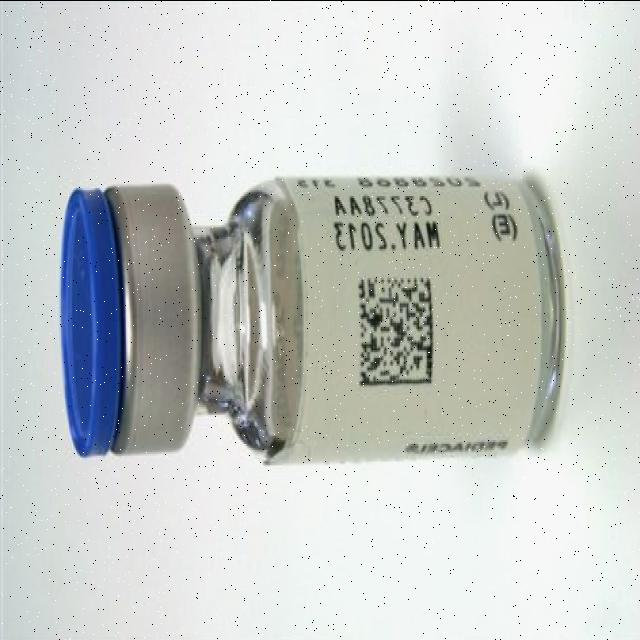datamatrix: (355, 271, 438, 390)
